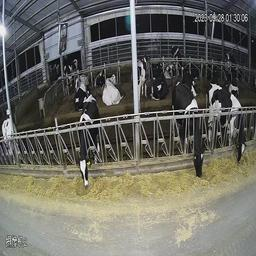cow: (205, 75, 252, 172), (170, 80, 208, 185), (73, 91, 100, 199), (148, 56, 170, 109), (71, 70, 93, 114), (102, 67, 124, 108), (3, 116, 21, 164), (136, 48, 149, 107), (188, 56, 204, 80), (171, 41, 183, 63), (63, 59, 78, 75)
